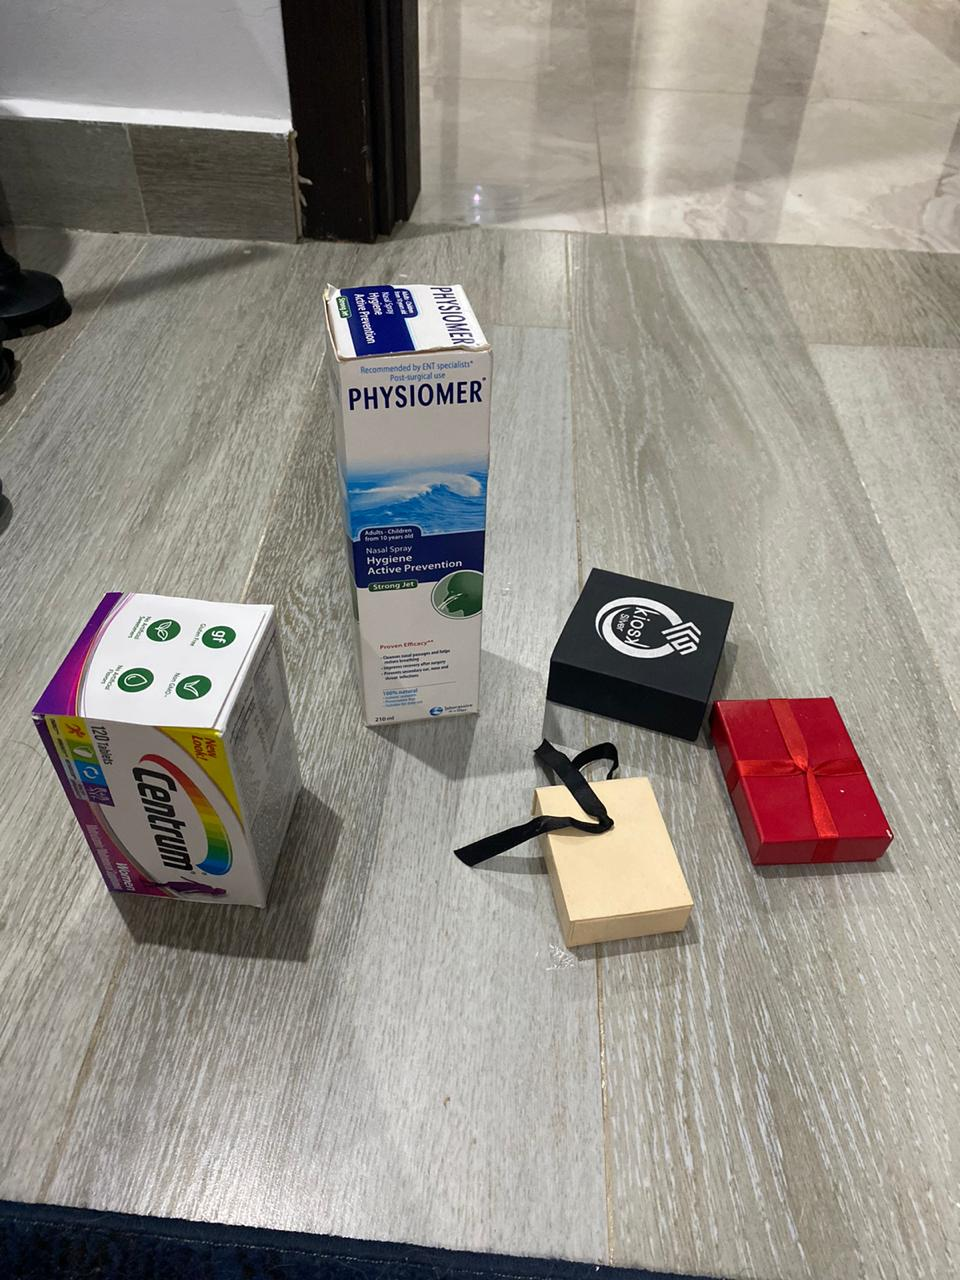Black Box: (713, 694, 898, 874)
Centrum: (32, 587, 313, 919)
Physiomer: (321, 278, 499, 734)
Red Box: (545, 565, 735, 737)
Yellow Box: (527, 774, 697, 960)
